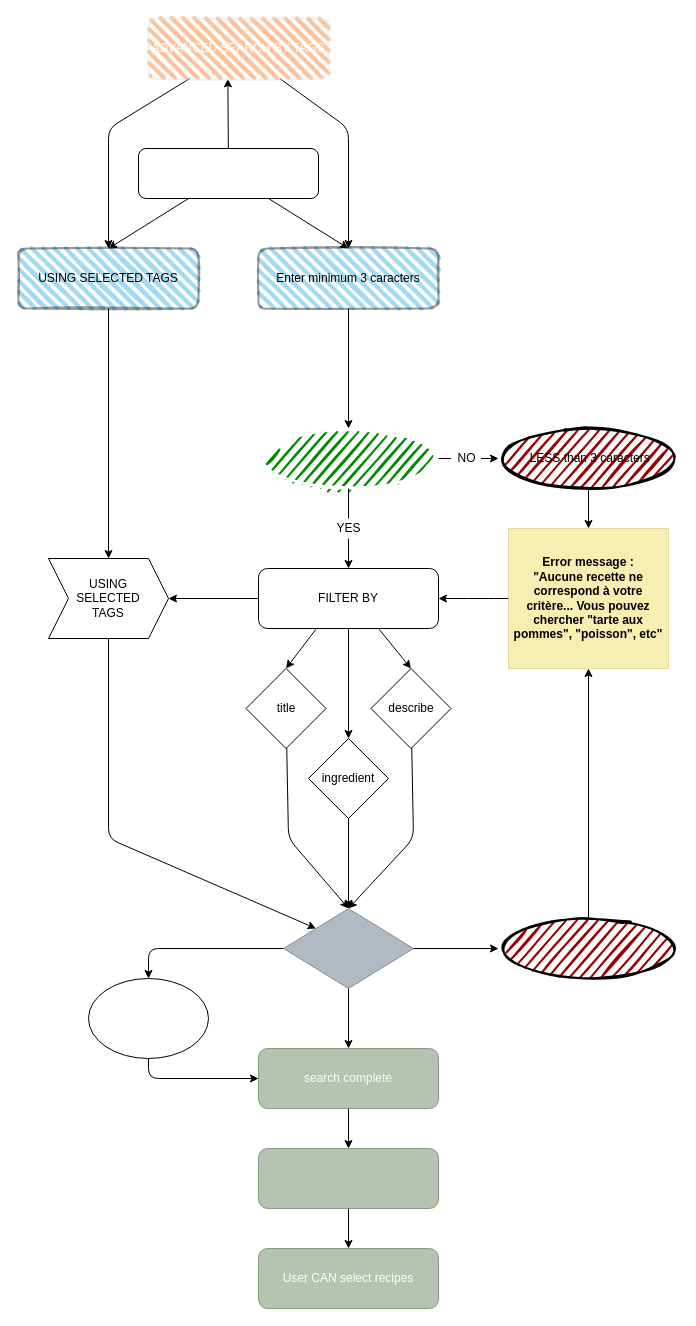
Some shapes in this 696 by 1326 pixel diagram are drawn without their labels. Here are the shapes that lost their labels. From the top down, the centre of each, then its label:
point (228, 173): User select INPUT search bar
point (348, 458): Is OK ?
point (348, 948): Search starting
point (588, 948): Cannot find
point (148, 1018): Show tags under search bar
point (348, 1178): show RECIPES CARDS
